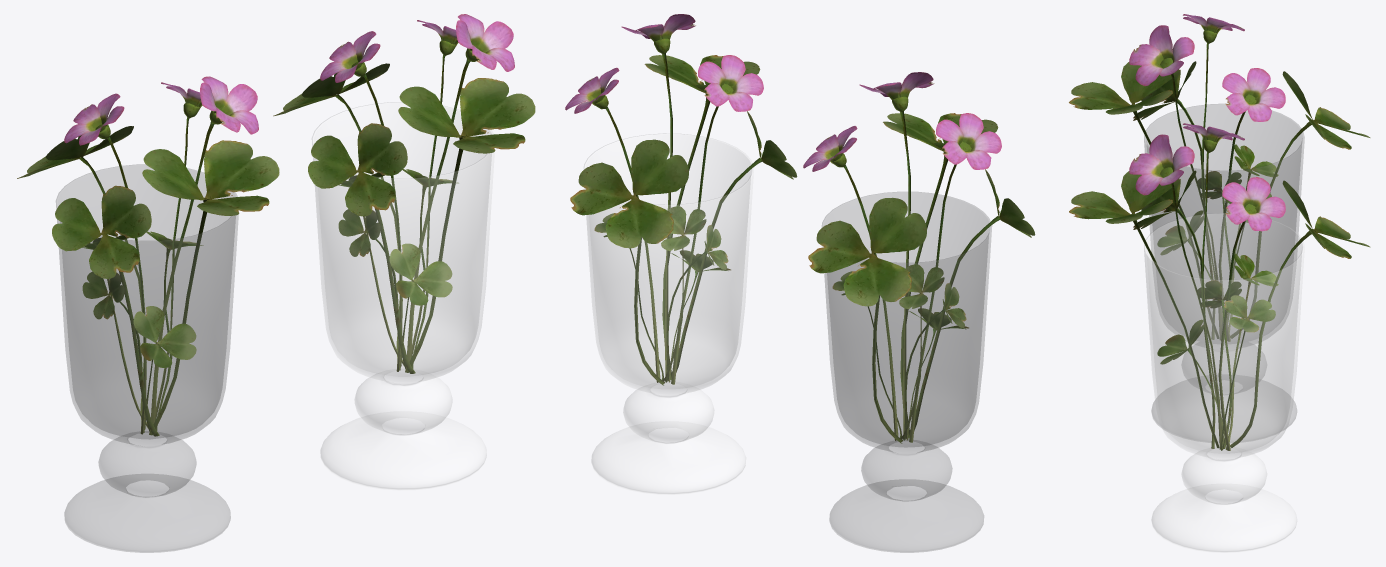
File: blumenvase.glb
3 renders of one model, left to right at view 1: azimuth 30°, elevation 25°; view 2: azimuth 150°, elevation 25°; view 3: azimuth 270°, elevation 25°, orthographic. The views are drawn at different scales.
Parts seen in each view (by area): view 1: Flowers1, GlassAlpha, GlassTransmission; view 2: Flowers1, GlassAlpha, GlassTransmission; view 3: GlassTransmission, Flowers1, GlassAlpha.
Boxes of the visible parts, x1,y1,x2,y2 form: Flowers1: (17,14,535,436); GlassAlpha: (56,164,238,552); GlassTransmission: (312,102,494,490); Flowers1: (565,14,1035,443); GlassAlpha: (822,192,991,552); GlassTransmission: (584,133,753,494); GlassTransmission: (1144,213,1304,552); Flowers1: (1069,14,1370,450); GlassAlpha: (1144,104,1304,442).
Bounding box in the file's own units: 0.2173 × 0.2032 × 0.1425.
3 materials, 1 textured.
